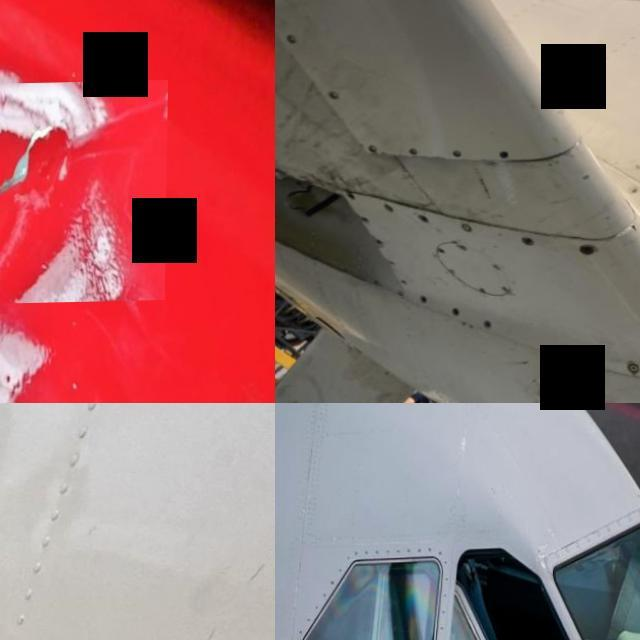Crack: (0, 82, 168, 307), (628, 226, 638, 238)
Missing_Fastener: (580, 246, 594, 258), (586, 356, 600, 368), (368, 144, 380, 156), (328, 91, 342, 101), (406, 148, 420, 158), (286, 34, 299, 44), (450, 152, 466, 160), (382, 205, 396, 214), (499, 153, 512, 162), (523, 239, 535, 247), (419, 216, 429, 223), (420, 296, 428, 304), (452, 310, 462, 316), (348, 193, 356, 200), (376, 240, 384, 247), (484, 322, 492, 329), (362, 217, 369, 224), (401, 280, 409, 286)
